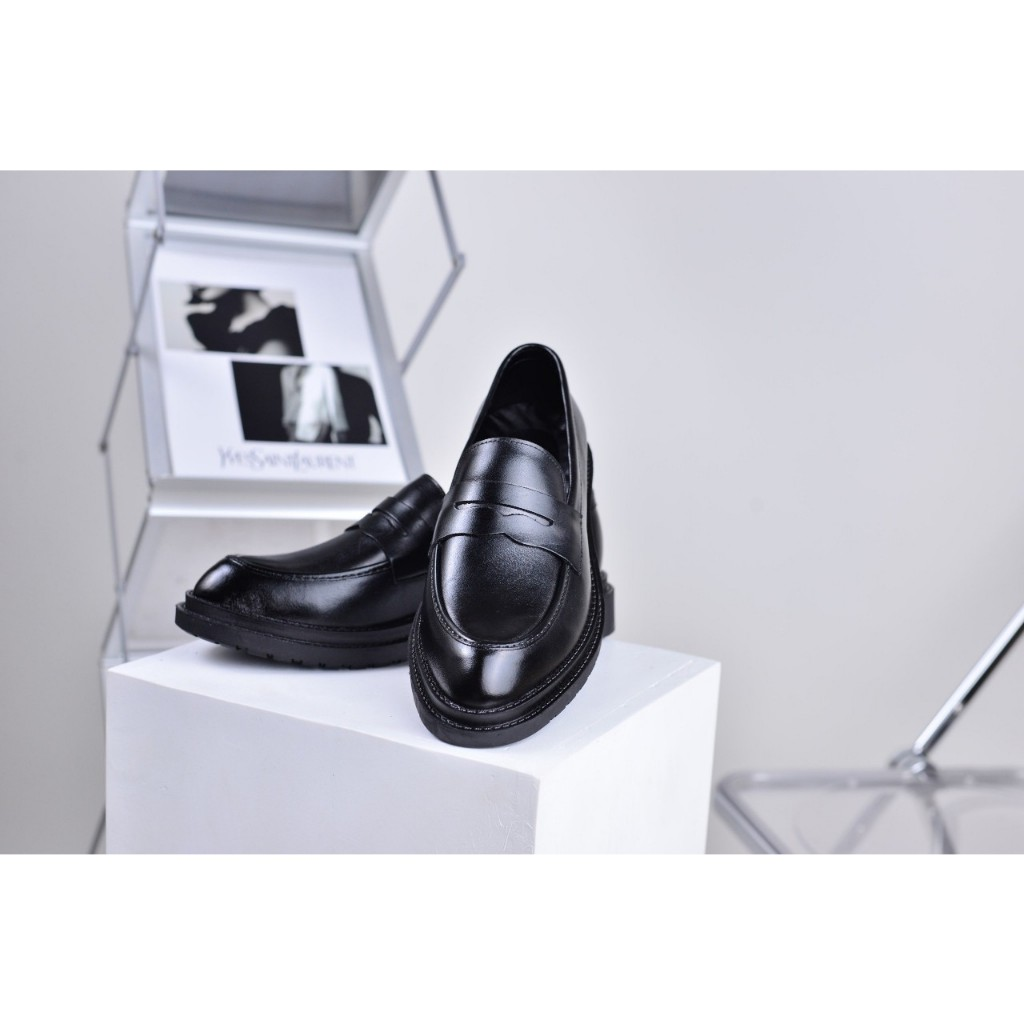loafers: (174, 473, 620, 673), (408, 340, 607, 748)
